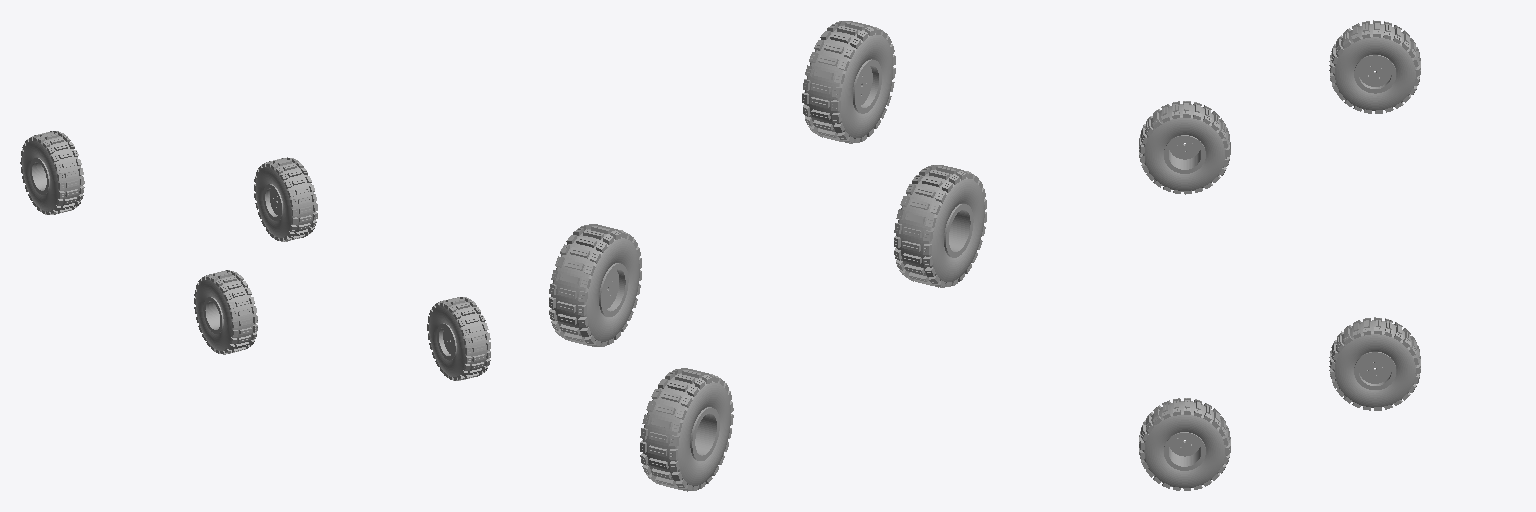
URDF robot description (rover):
<?xml version="1.0" ?>
<robot name="rover">

<material name="silver">
  <color rgba="0.700 0.700 0.700 1.000"/>
</material>

<!-- Base Link -->
<link name="base_link">
  <inertial>
    <origin xyz="0 0 0.3038" rpy="0 0 0"/> <!-- Adjusted based on the original analysis -->
    <mass value="4.240593873008682"/>
    <inertia ixx="0.10869" iyy="0.129499" izz="0.054658" ixy="0.0" iyz="0.00125" ixz="0.000239"/>
  </inertial>
  <visual>
    <origin xyz="0 0 0" rpy="1.57 0 0"/>
    <geometry>
      <mesh filename="package://robot_description/meshes/main_body_1.stl" scale="0.001 0.001 0.001"/>
    </geometry>
    <material name="silver"/>
  </visual>
  <collision>
    <origin xyz="0 0 0" rpy="0 0 0"/>
    <geometry>
      <mesh filename="package://robot_description/meshes/main_body_1.stl" scale="0.001 0.001 0.001"/>
    </geometry>
  </collision>
</link>

<!-- Wheel Links -->
<link name="front_left_wheel">
  <inertial>
    <origin xyz="0 0 0" rpy="0 0 0"/> <!-- Inertial values set to zero -->
    <mass value="0.0"/> <!-- Mass set to zero -->
    <inertia ixx="0.0" iyy="0.0" izz="0.0" ixy="0.0" iyz="0.0" ixz="0.0"/>
  </inertial>
  <visual>
    <origin xyz="0 0 0" rpy="0 0 0"/>
    <geometry>
      <mesh filename="package://robot_description/meshes/wheel5_1.stl" scale="0.001 0.001 0.001"/>
    </geometry>
    <material name="silver"/>
  </visual>
  <collision>
    <origin xyz="0 0 0" rpy="0 0 0"/>
    <geometry>
      <mesh filename="package://robot_description/meshes/wheel5_1.stl" scale="0.001 0.001 0.001"/>
    </geometry>
  </collision>
</link>

<link name="front_right_wheel">
  <inertial>
    <origin xyz="0 0 0" rpy="0 0 0"/> <!-- Inertial values set to zero -->
    <mass value="0.0"/> <!-- Mass set to zero -->
    <inertia ixx="0.0" iyy="0.0" izz="0.0" ixy="0.0" iyz="0.0" ixz="0.0"/>
  </inertial>
  <visual>
    <origin xyz="0 0 0" rpy="0 0 0"/>
    <geometry>
      <mesh filename="package://robot_description/meshes/wheel4_1.stl" scale="0.001 0.001 0.001"/>
    </geometry>
    <material name="silver"/>
  </visual>
  <collision>
    <origin xyz="0 0 0" rpy="0 0 0"/>
    <geometry>
      <mesh filename="package://robot_description/meshes/wheel4_1.stl" scale="0.001 0.001 0.001"/>
    </geometry>
  </collision>
</link>

<link name="rear_left_wheel">
  <inertial>
    <origin xyz="0 0 0" rpy="0 0 0"/> <!-- Inertial values set to zero -->
    <mass value="0.0"/> <!-- Mass set to zero -->
    <inertia ixx="0.0" iyy="0.0" izz="0.0" ixy="0.0" iyz="0.0" ixz="0.0"/>
  </inertial>
  <visual>
    <origin xyz="0 0 0" rpy="0 0 0"/>
    <geometry>
      <mesh filename="package://robot_description/meshes/wheel3_1.stl" scale="0.001 0.001 0.001"/>
    </geometry>
    <material name="silver"/>
  </visual>
  <collision>
    <origin xyz="0 0 0" rpy="0 0 0"/>
    <geometry>
      <mesh filename="package://robot_description/meshes/wheel3_1.stl" scale="0.001 0.001 0.001"/>
    </geometry>
  </collision>
</link>

<link name="rear_right_wheel">
  <inertial>
    <origin xyz="0 0 0" rpy="0 0 0"/> <!-- Inertial values set to zero -->
    <mass value="0.0"/> <!-- Mass set to zero -->
    <inertia ixx="0.0" iyy="0.0" izz="0.0" ixy="0.0" iyz="0.0" ixz="0.0"/>
  </inertial>
  <visual>
    <origin xyz="0 0 0" rpy="0 0 0"/>
    <geometry>
      <mesh filename="package://robot_description/meshes/wheel2_1.stl" scale="0.001 0.001 0.001"/>
    </geometry>
    <material name="silver"/>
  </visual>
  <collision>
    <origin xyz="0 0 0" rpy="0 0 0"/>
    <geometry>
      <mesh filename="package://robot_description/meshes/wheel2_1.stl" scale="0.001 0.001 0.001"/>
    </geometry>
  </collision>
</link>

<!-- Fixed Joints -->
<joint name="joint_front_left_wheel" type="fixed">
  <origin xyz="0.22 0.1875 -0.110" rpy="0 0 0"/>
  <parent link="base_link"/>
  <child link="front_left_wheel"/>
</joint>

<joint name="joint_front_right_wheel" type="fixed">
  <origin xyz="0.22 -0.1875 -0.110" rpy="0 0 0"/>
  <parent link="base_link"/>
  <child link="front_right_wheel"/>
</joint>

<joint name="joint_rear_left_wheel" type="fixed">
  <origin xyz="-0.22 0.1875 -0.110" rpy="0 0 0"/>
  <parent link="base_link"/>
  <child link="rear_left_wheel"/>
</joint>

<joint name="joint_rear_right_wheel" type="fixed">
  <origin xyz="-0.22 -0.1875 -0.110" rpy="0 0 0"/>
  <parent link="base_link"/>
  <child link="rear_right_wheel"/>
</joint>

</robot>


--- What the picture shows (computed from the rendered views, not written in the file) ---
Views: 3 orthographic renders of the robot side by side, from view 1: azimuth 30°, elevation 25°; view 2: azimuth 150°, elevation 25°; view 3: azimuth 270°, elevation 25°.
Robot: rover — 5 links, 4 joints (4 fixed); root link base_link; default pose: all joints at 0.
Visible links, largest first — view 1: rear_right_wheel, front_left_wheel, front_right_wheel, rear_left_wheel; view 2: rear_right_wheel, front_right_wheel, front_left_wheel, rear_left_wheel; view 3: rear_right_wheel, front_right_wheel, front_left_wheel, rear_left_wheel.
Boxes of the visible links, x1,y1,x2,y2 form: rear_right_wheel: (254, 157, 317, 241); front_left_wheel: (194, 270, 257, 354); front_right_wheel: (427, 297, 490, 380); rear_left_wheel: (20, 131, 84, 214); rear_right_wheel: (802, 21, 895, 143); front_right_wheel: (549, 224, 641, 346); front_left_wheel: (640, 368, 733, 491); rear_left_wheel: (894, 165, 986, 287); rear_right_wheel: (1139, 101, 1230, 194); front_right_wheel: (1139, 398, 1230, 490); front_left_wheel: (1329, 317, 1420, 410); rear_left_wheel: (1329, 20, 1420, 113).
Bounding box of the posed robot: 0.8837 × 0.5554 × 0.6205 m (x, y, z).
4 mesh visuals loaded from 5 distinct referenced files (4 binary STL); not drawn: 1 (reference not matched to a file when rendering).